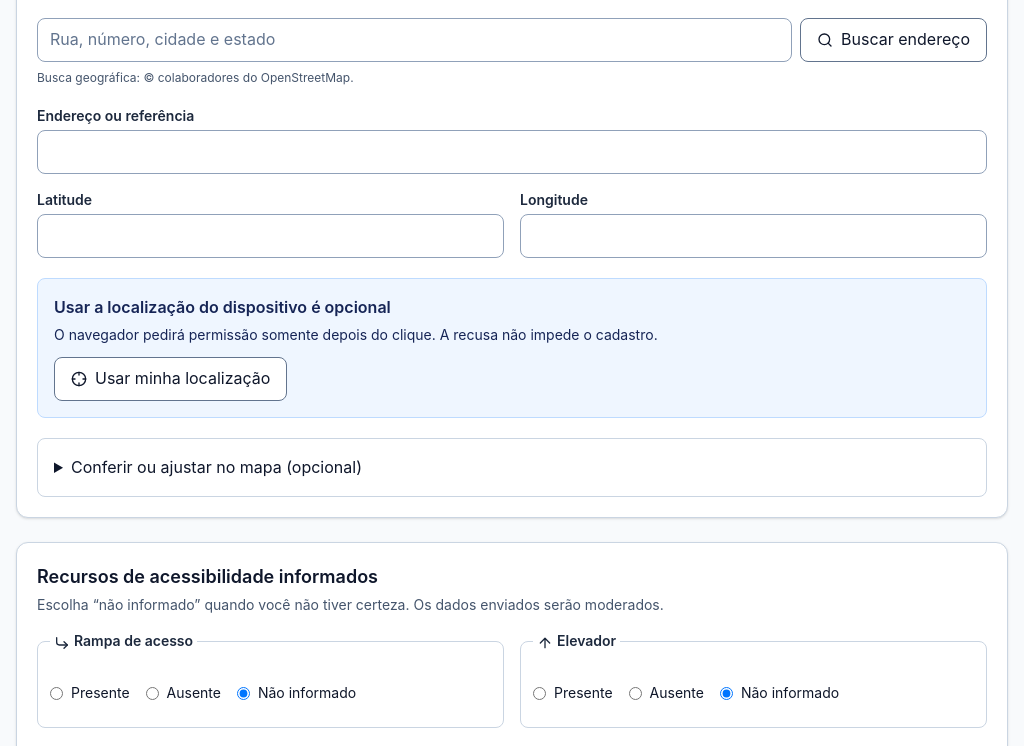
Test: NovoLocal › mantém a jornada ativa quando geolocalização é negada e aceita sucesso
(page scrolled)
Click the button "Usar minha localização" at (171, 379), box [54, 357, 287, 401]
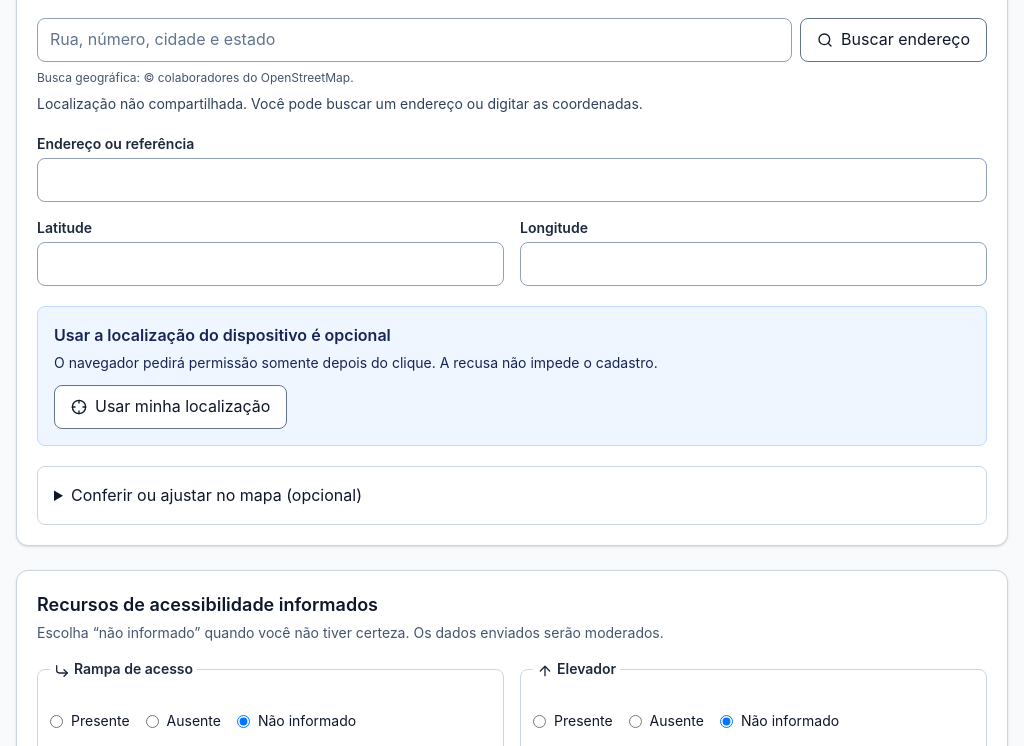
Expected: the text "Localização não compartilhada" is shown, [37, 95, 643, 112]
Click the button "Usar minha localização" at (171, 407), box [54, 385, 287, 429]
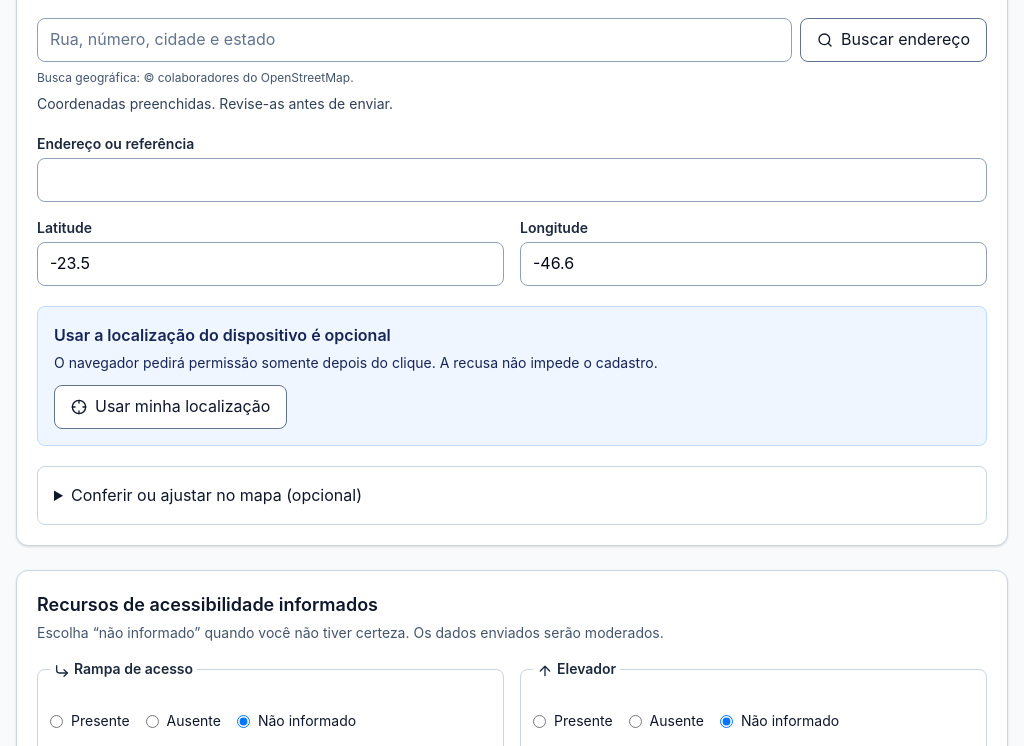
Expected: the number field labelled "Latitude" holds "-23.5", [37, 242, 504, 286]
Expected: the number field labelled "Longitude" holds "-46.6", [520, 242, 987, 286]
